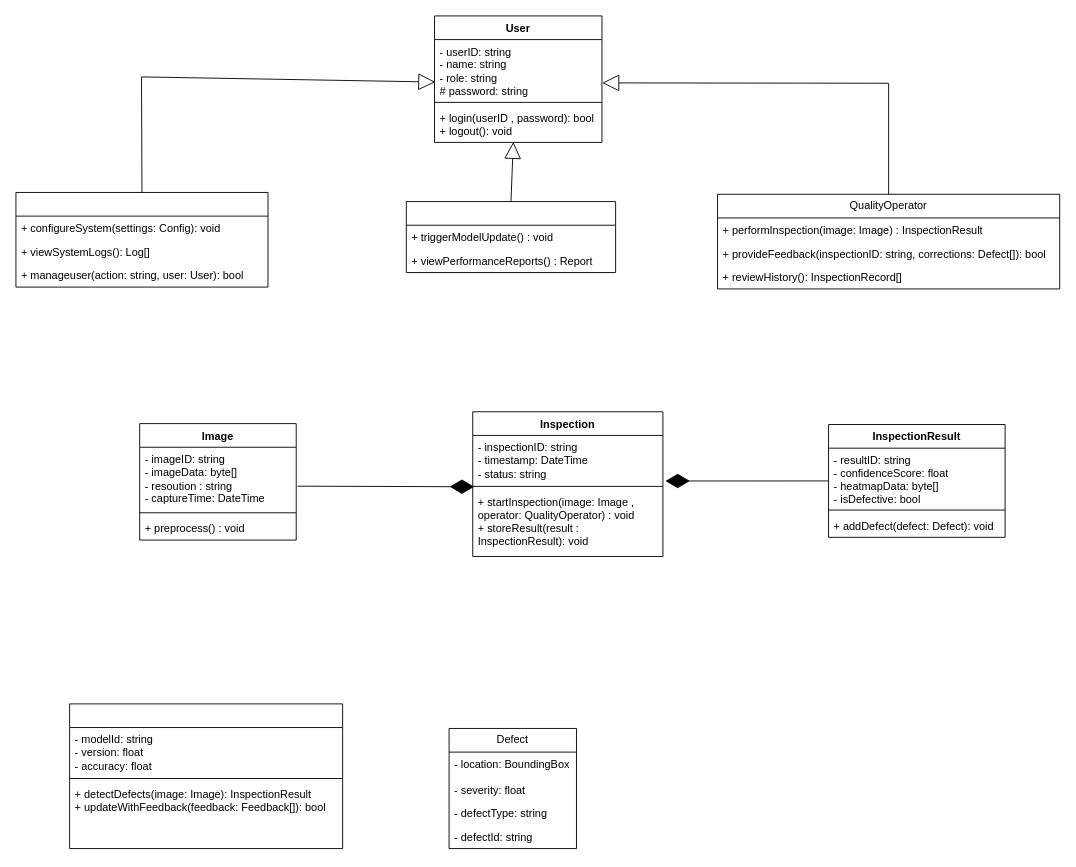
The diagram is 1076 pixels wide and 867 high, and some of its shapes have lost their labels. Each missing label, with the box of its shape:
ManufacturingEngineer: (405, 201, 616, 273)
SystemAdministrator: (15, 192, 268, 287)
VisionModel: (69, 703, 343, 849)
